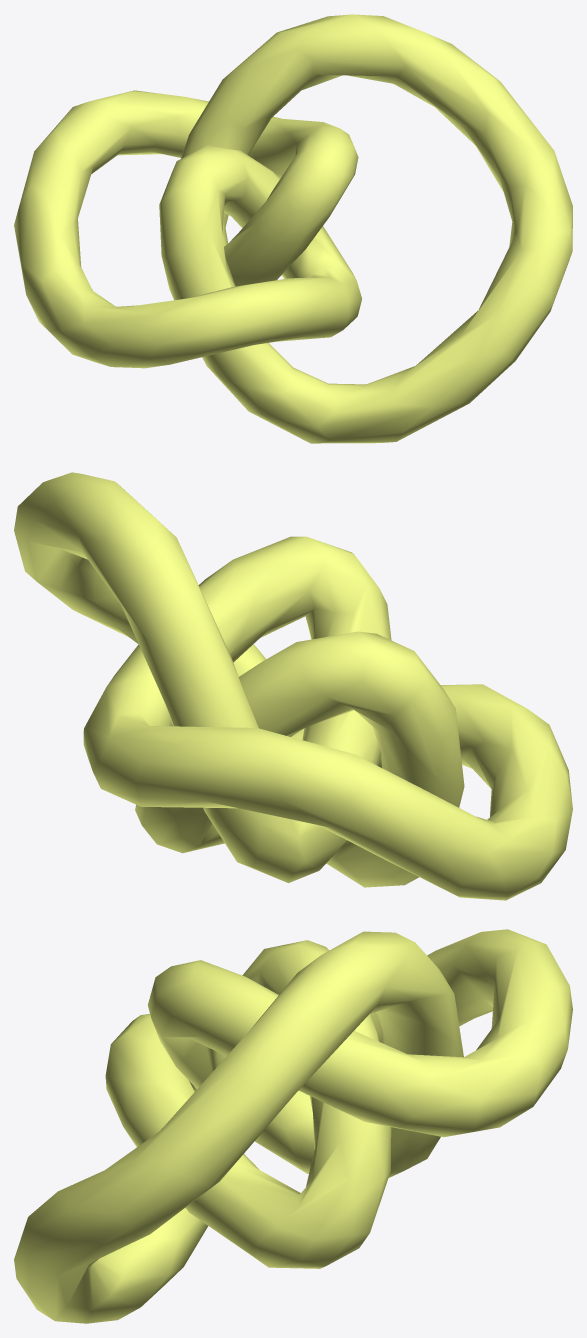
File: knot_sculpture_knot005.gltf
3 renders of one model, top to bottom at view 1: azimuth 30°, elevation 25°; view 2: azimuth 150°, elevation 25°; view 3: azimuth 270°, elevation 25°, orthographic. The views are drawn at different scales.
Parts seen in each view (by area): view 1: Knot.005; view 2: Knot.005; view 3: Knot.005.
Boxes of the visible parts, x1,y1,x2,y2 form: Knot.005: [14, 14, 572, 443]; Knot.005: [14, 472, 572, 900]; Knot.005: [14, 929, 572, 1323].
Size of the model in its own units: 1.4 by 1.01 by 1.21.
